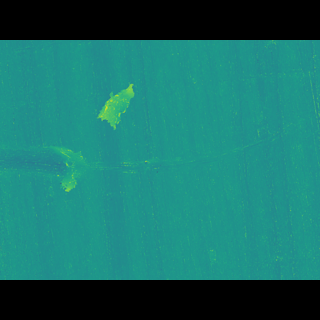Loch: (0, 146, 184, 184), (92, 100, 140, 139)
